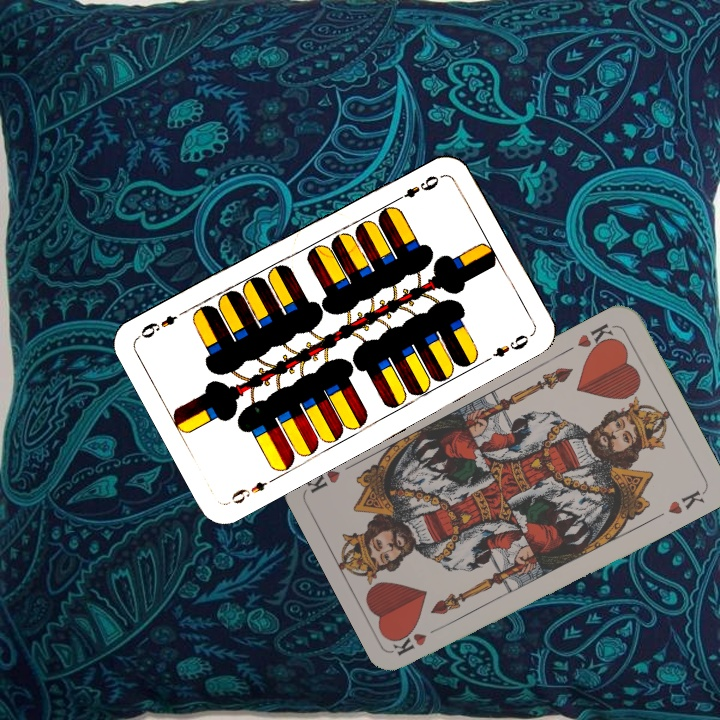E9: (391, 171, 446, 205), (224, 473, 279, 507)
HK: (390, 621, 447, 659), (573, 319, 619, 357)
